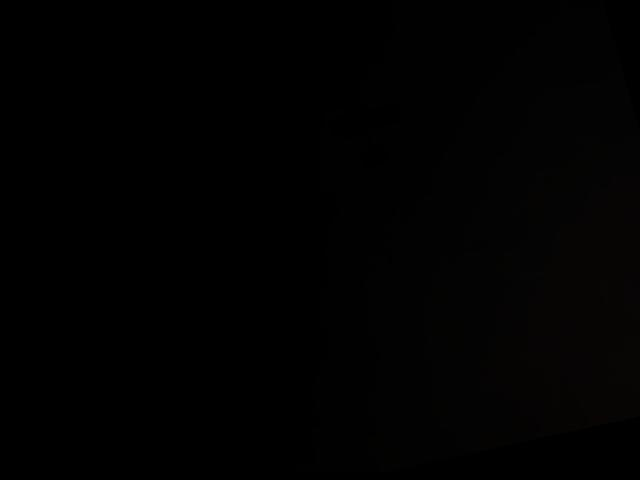plane: (320, 85, 409, 174)
